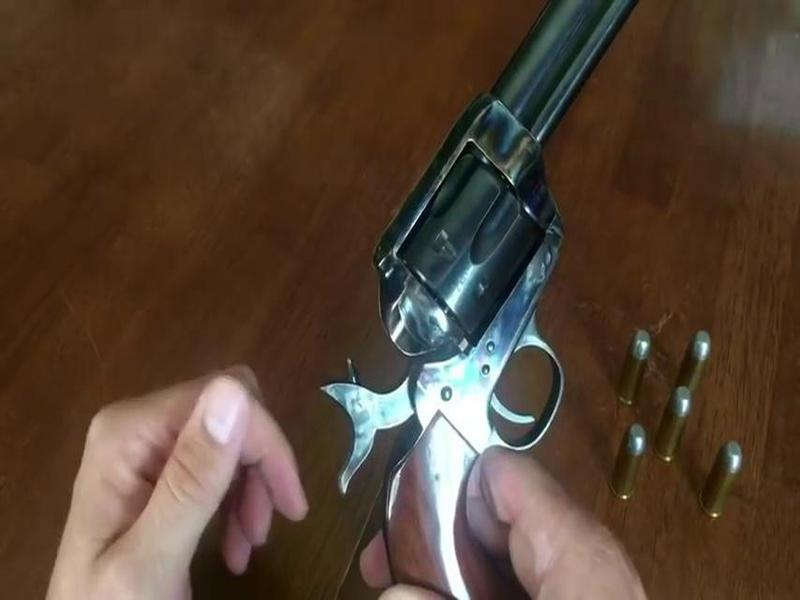Revolver: (322, 4, 607, 525)
